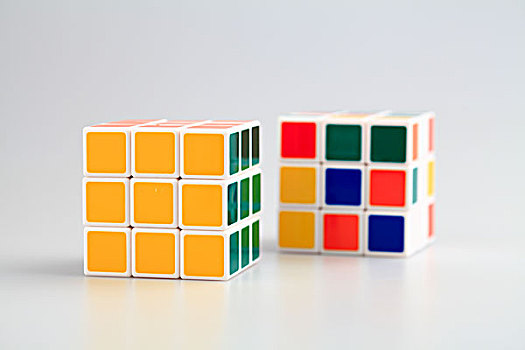cube: (77, 115, 265, 283), (275, 107, 437, 259)
